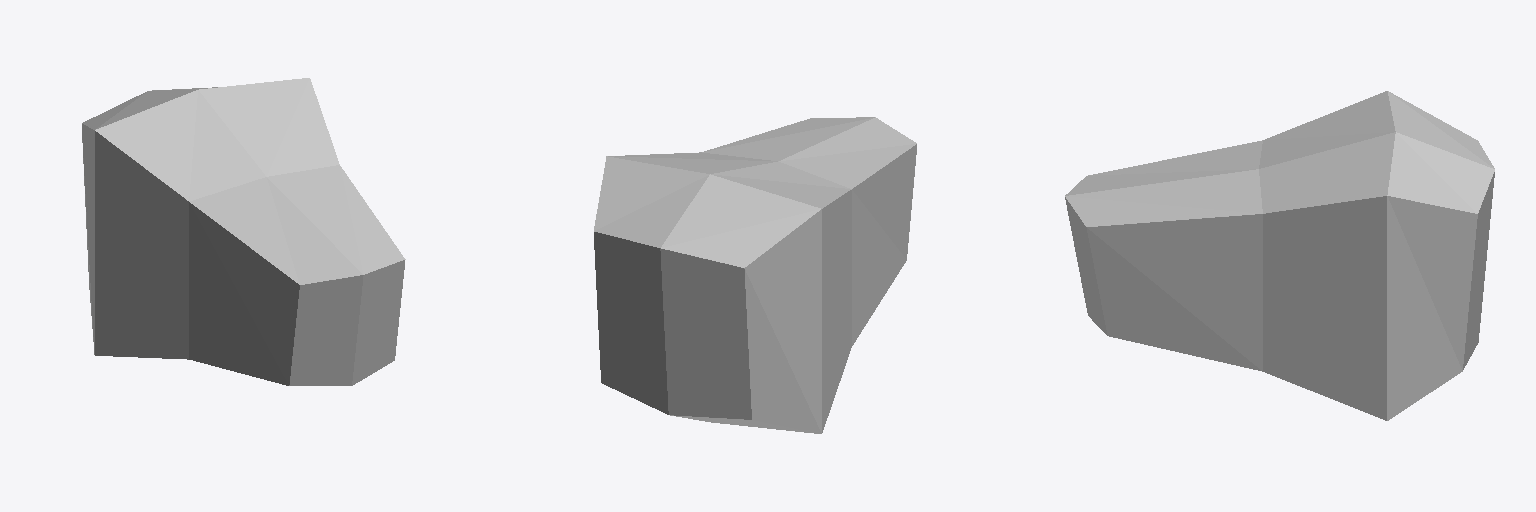
File: geonachfist.obj
3 views of the same model, side by side, from view 1: azimuth 30°, elevation 25°; view 2: azimuth 150°, elevation 25°; view 3: azimuth 270°, elevation 25° (orthographic).
Visible parts, largest first — view 1: Base; view 2: Base; view 3: Base.
Part boxes in pixels (x1,y1,x2,y2): Base: (82, 78, 405, 385); Base: (594, 117, 916, 433); Base: (1065, 91, 1494, 420).
Size of the model in its own units: 0.3 by 0.33 by 0.5191.